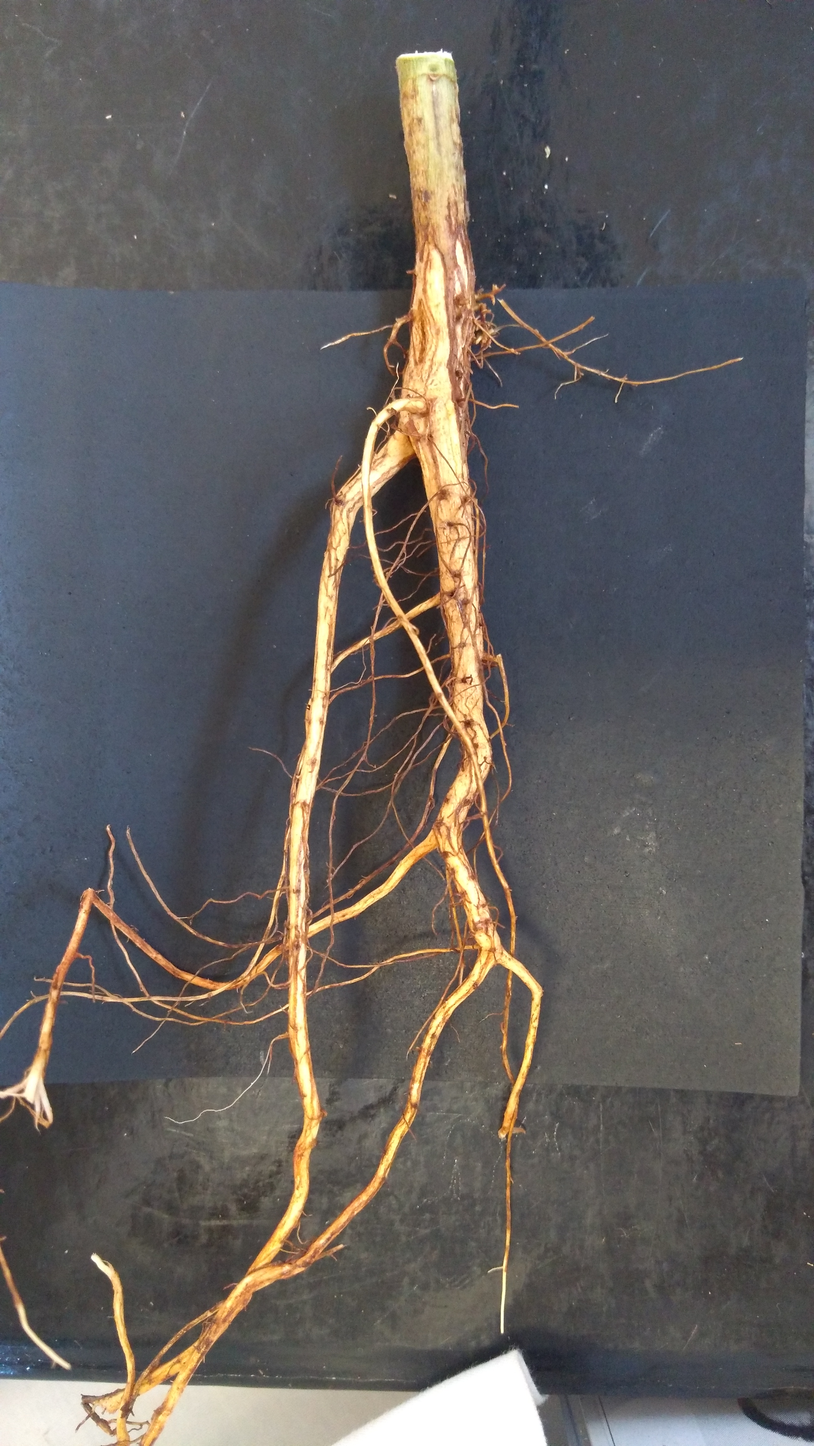nodule: (475, 318, 491, 332), (481, 336, 492, 348), (319, 1108, 329, 1118)
